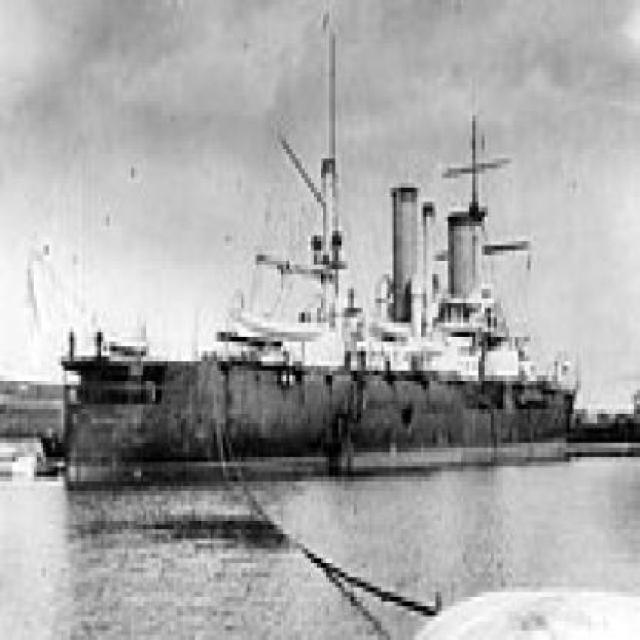warship2: (53, 20, 601, 497)
